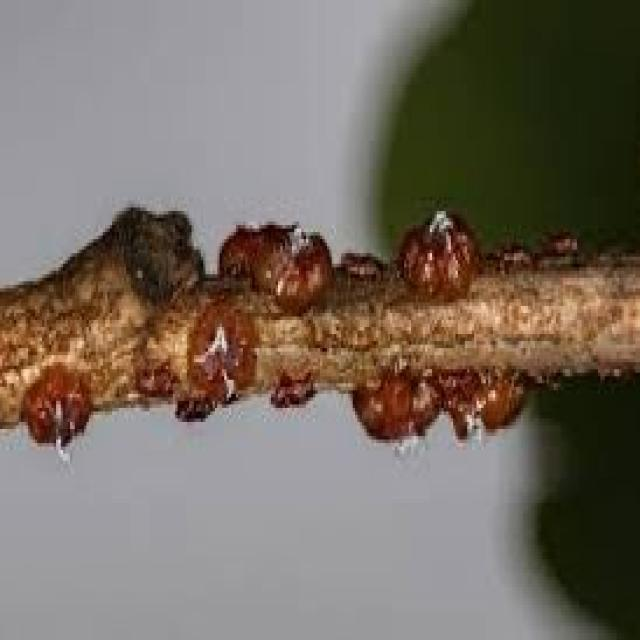BlackScale: (358, 369, 524, 450), (217, 222, 334, 313), (397, 200, 479, 296), (19, 362, 91, 460), (189, 313, 252, 408)
